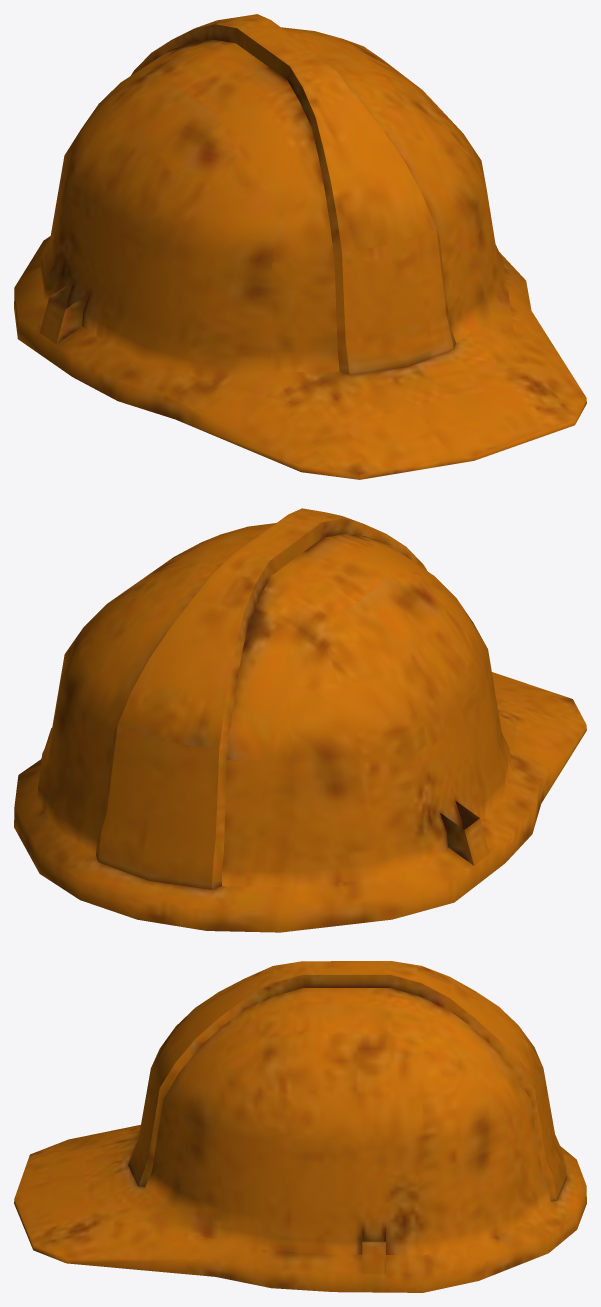
Rendered from hardhat.glb.
The picture shows the model from 3 angles, top to bottom: view 1: azimuth 30°, elevation 25°; view 2: azimuth 150°, elevation 25°; view 3: azimuth 270°, elevation 25°; orthographic projection. The views are drawn at different scales.
Parts seen in each view (by area): view 1: pSphere1_lambert1_0; view 2: pSphere1_lambert1_0; view 3: pSphere1_lambert1_0.
Boxes of the visible parts, x1,y1,x2,y2 form: pSphere1_lambert1_0: (14, 14, 586, 479); pSphere1_lambert1_0: (14, 508, 586, 932); pSphere1_lambert1_0: (14, 961, 586, 1292).
Bounding box in the file's own units: 2.13 × 1.3 × 2.86.
1 material, 1 textured.
